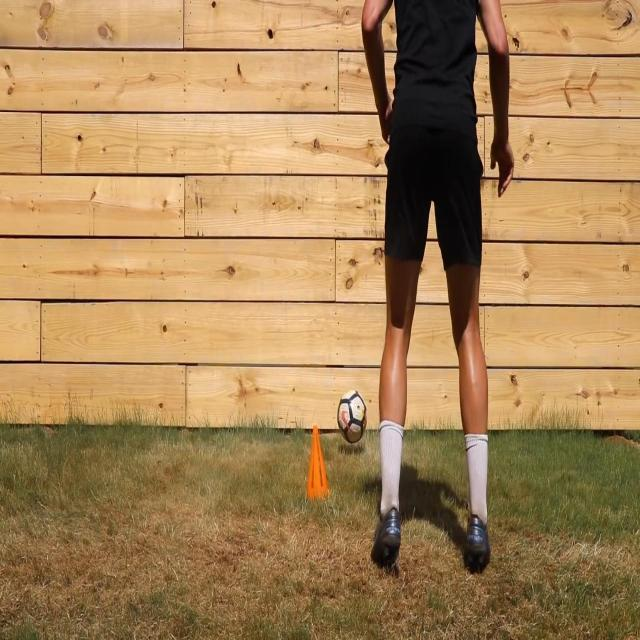Soccer Ball: (337, 386, 367, 446)
